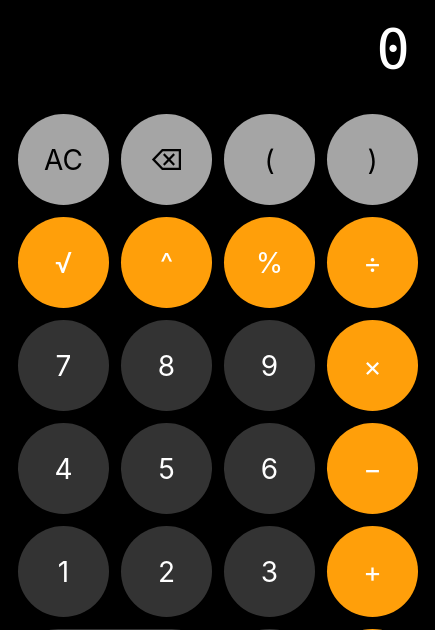
Test case: Calculator › deletes the last token when the delete button is pressed
Click the button "1" at (64, 572), box [18, 526, 109, 617]
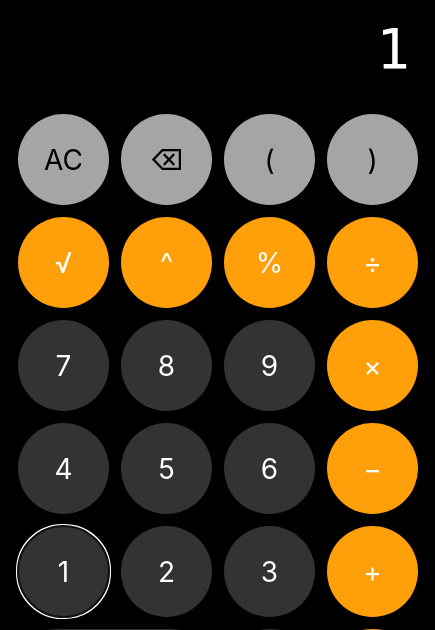
Click the button "2" at (166, 572), box [121, 526, 212, 617]
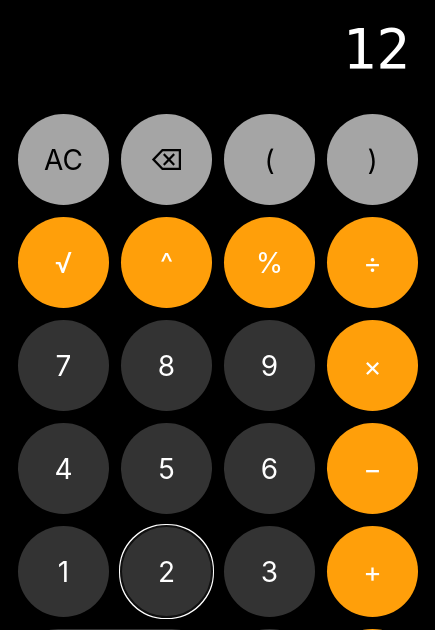
Click the button named "Delete" at (166, 160), box [121, 114, 212, 205]
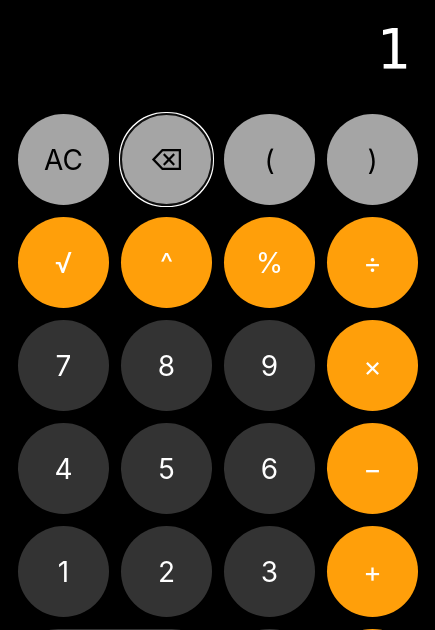
Check: the element with test id "display-value" reads "1", box [376, 16, 410, 81]
